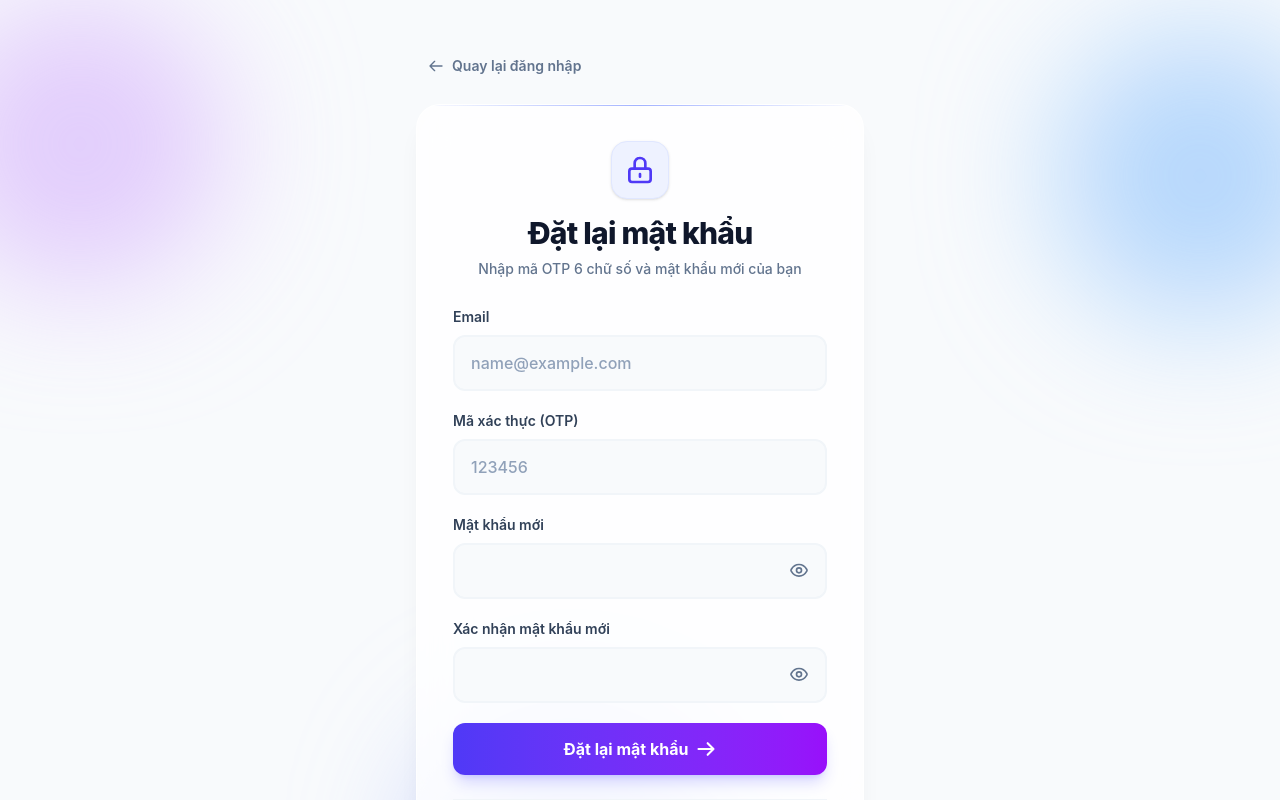
Test case: Password Recovery & Management UI Tests › ResetPasswordPage › ẩn mặc định và bật hiện từng mật khẩu độc lập
Type "test-password" into the password field labelled "Mật khẩu mới" at (640, 571), box x1=453 y1=543 x2=827 y2=599
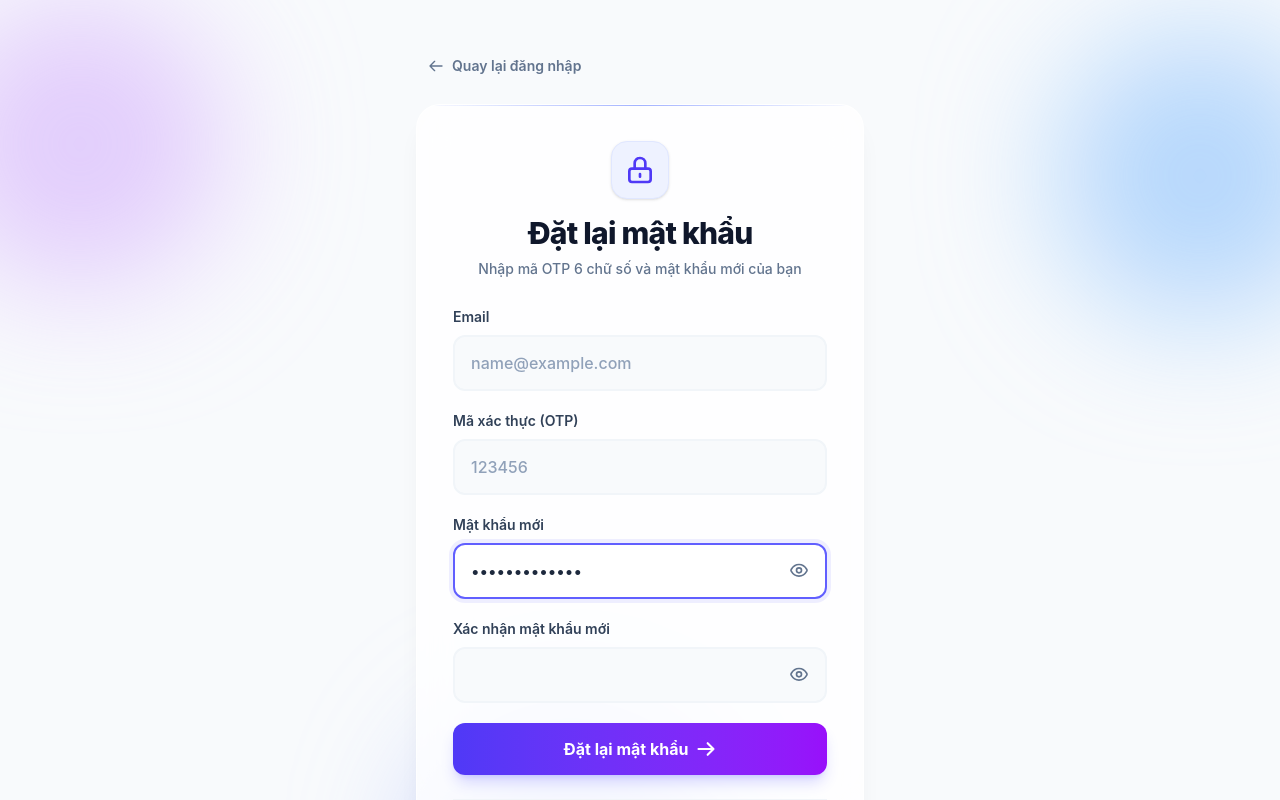
Click the button named "Hiện mật khẩu mới" at (799, 571), box x1=783 y1=555 x2=815 y2=587
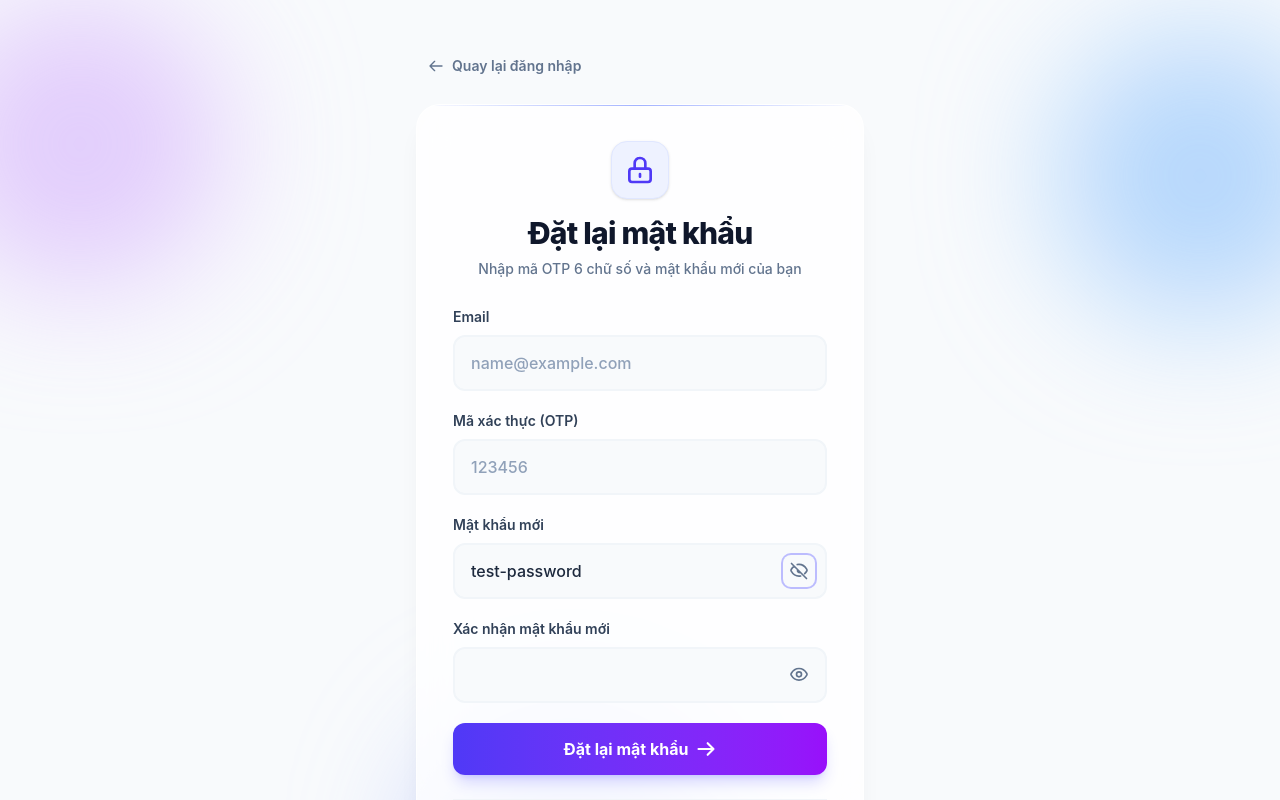
Expected: the field labelled "Mật khẩu mới" shows its text, x1=453 y1=543 x2=827 y2=599
